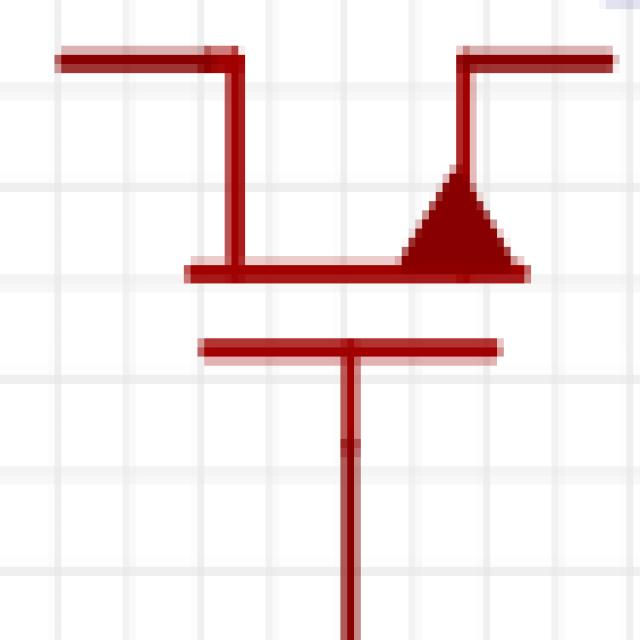nmos: (41, 12, 605, 624)
